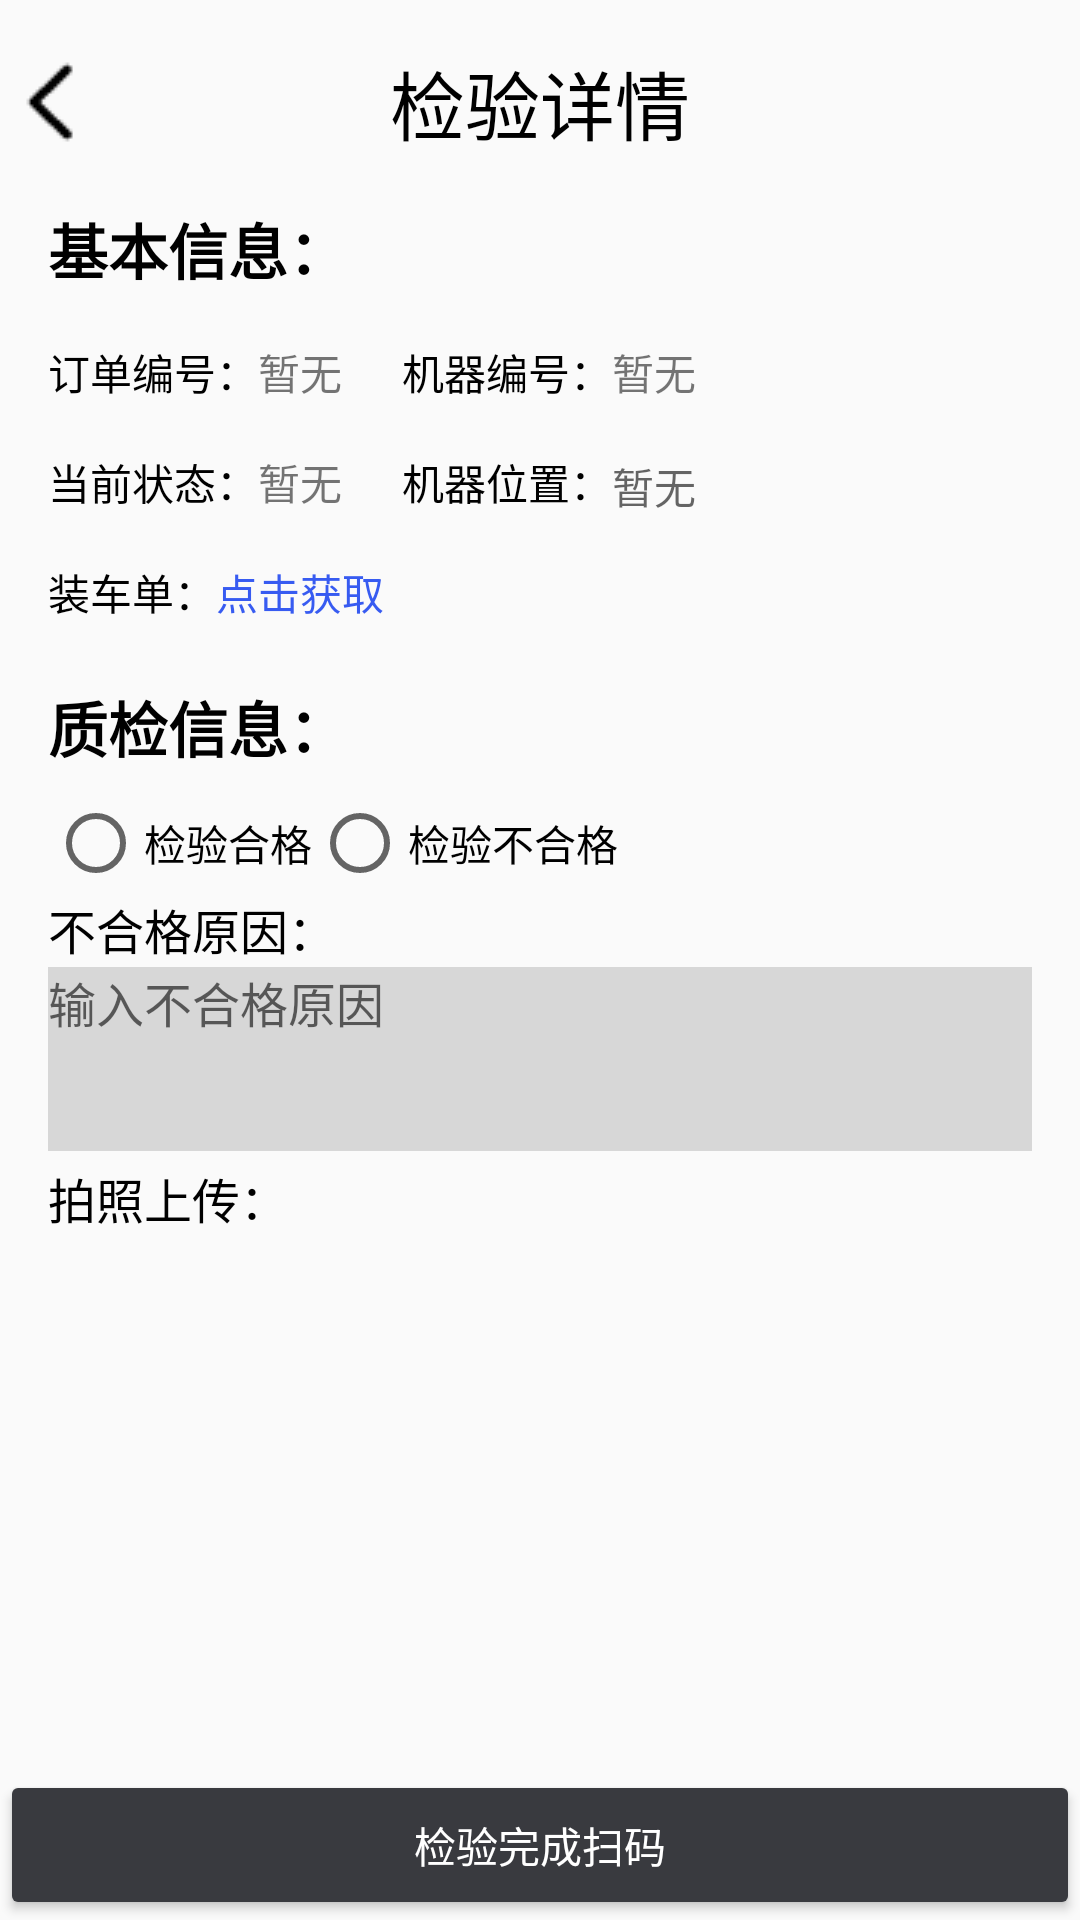

Icons on this 1080w x 1920h Android screen, each with its box as (x1, y1, x2, y2):
back arrow: (27, 63, 73, 141)
